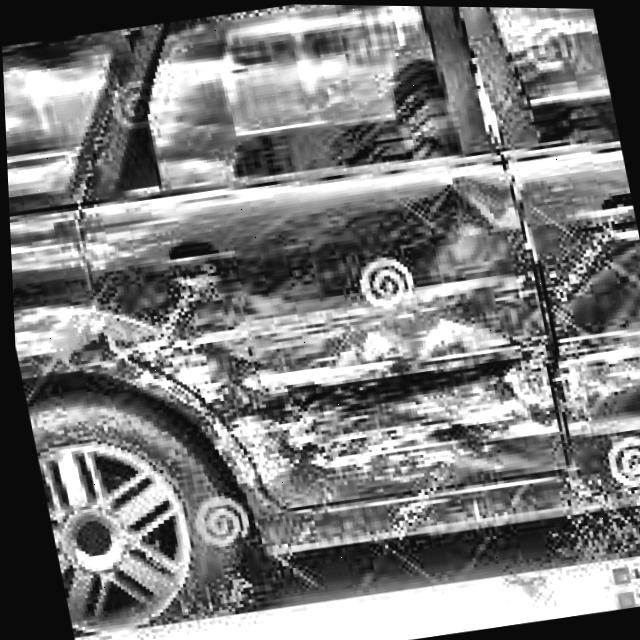door_dent: (131, 146, 640, 516)
door_scratch: (251, 311, 640, 494)
